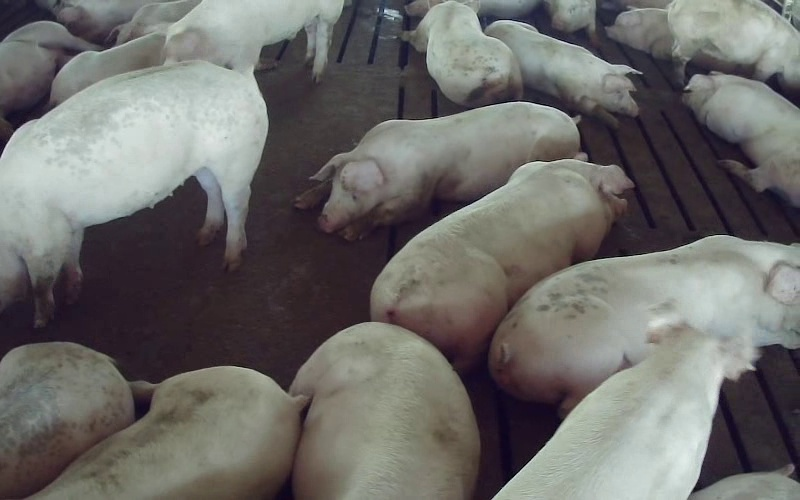pig: (0, 61, 267, 325), (494, 323, 754, 499), (294, 102, 580, 239), (29, 366, 305, 499), (290, 322, 478, 499), (0, 342, 133, 499), (485, 20, 640, 127), (684, 73, 799, 206), (165, 0, 343, 81), (401, 0, 522, 107), (668, 0, 799, 94), (0, 21, 99, 139)
